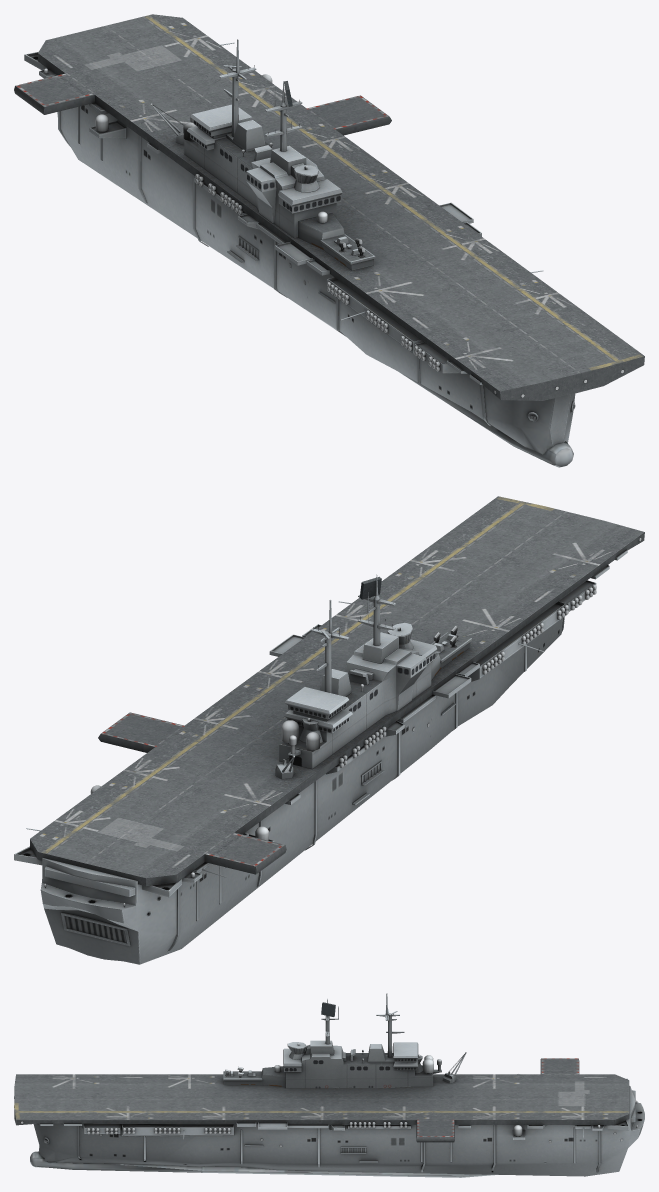
3 views of the same model, one above another, from view 1: azimuth 30°, elevation 25°; view 2: azimuth 150°, elevation 25°; view 3: azimuth 270°, elevation 25° (orthographic). The views are drawn at different scales.
Parts seen in each view (by area): view 1: Object_2; view 2: Object_2; view 3: Object_2.
Part boxes in pixels (x1,y1,x2,y2): Object_2: (14, 14, 644, 467); Object_2: (14, 496, 644, 964); Object_2: (14, 993, 644, 1177).
Bounding box in the file's own units: 2.34 × 2.19 × 7.82.
1 material, 1 textured.
